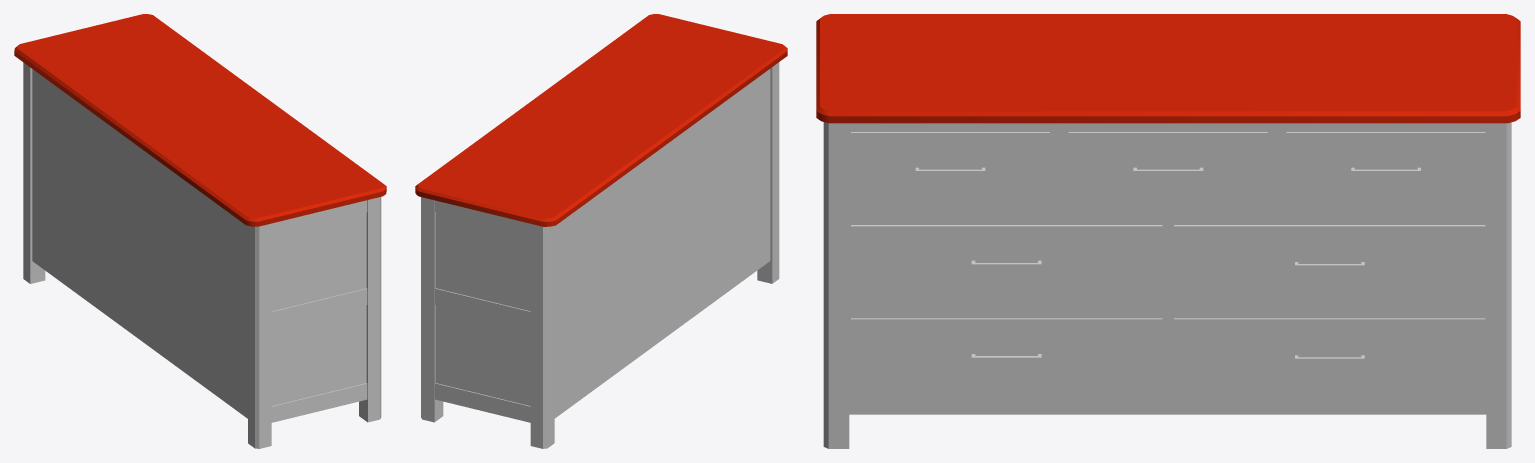
The model's file is Drawers.fbx.
3 views of the same model, side by side, from view 1: azimuth 30°, elevation 25°; view 2: azimuth 150°, elevation 25°; view 3: azimuth 270°, elevation 25° (orthographic). The views are drawn at different scales.
Visible parts, largest first — view 1: Dinner Table.002; view 2: Dinner Table.002; view 3: Dinner Table.002.
Boxes of the visible parts, <box> form: Dinner Table.002: <box>14,14,386,448</box>; Dinner Table.002: <box>415,14,787,448</box>; Dinner Table.002: <box>816,14,1520,448</box>.
Bounding box in the file's own units: 52.34 × 82.72 × 155.
